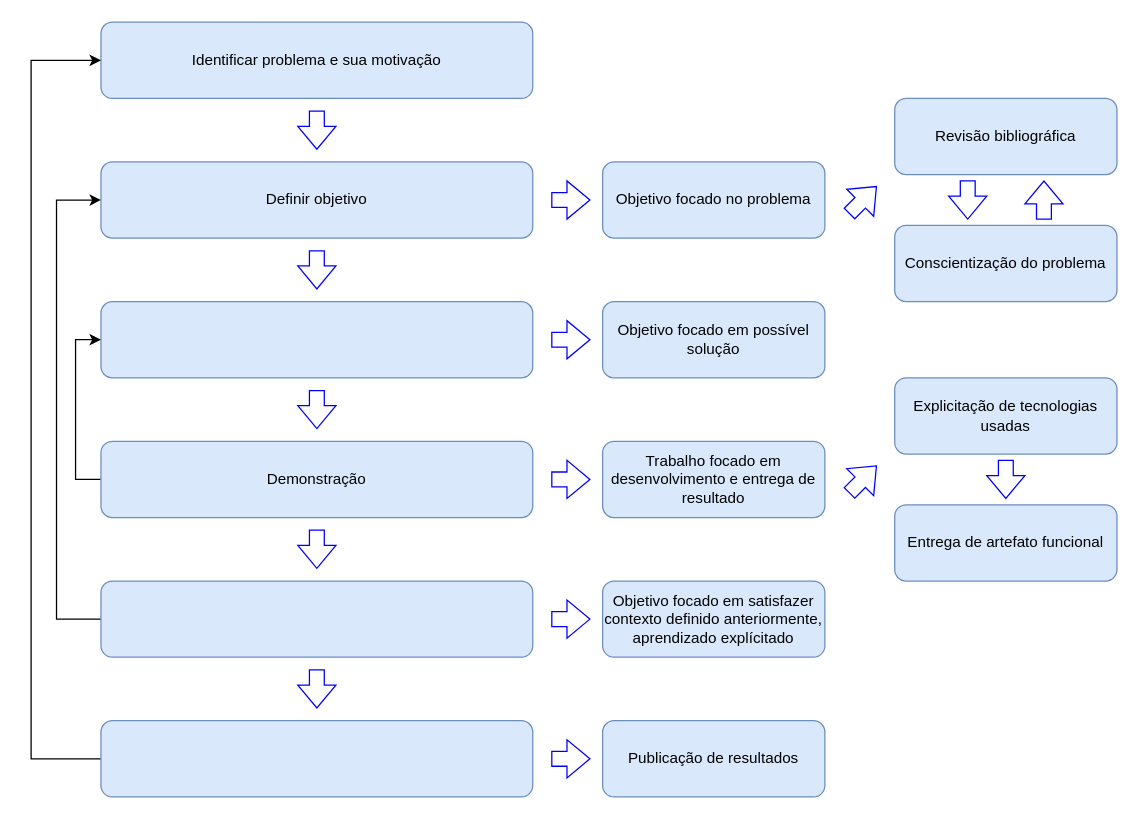
The diagram is 1139 pixels wide and 819 high, and some of its shapes have lost their labels. Each missing label, with the centre of its shape:
"Avaliação, com elaboração de conclusões" belongs at [316,618].
"Comunicação" belongs at [316,758].
"Definição de artefato e desenvolvimento" belongs at [316,339].
